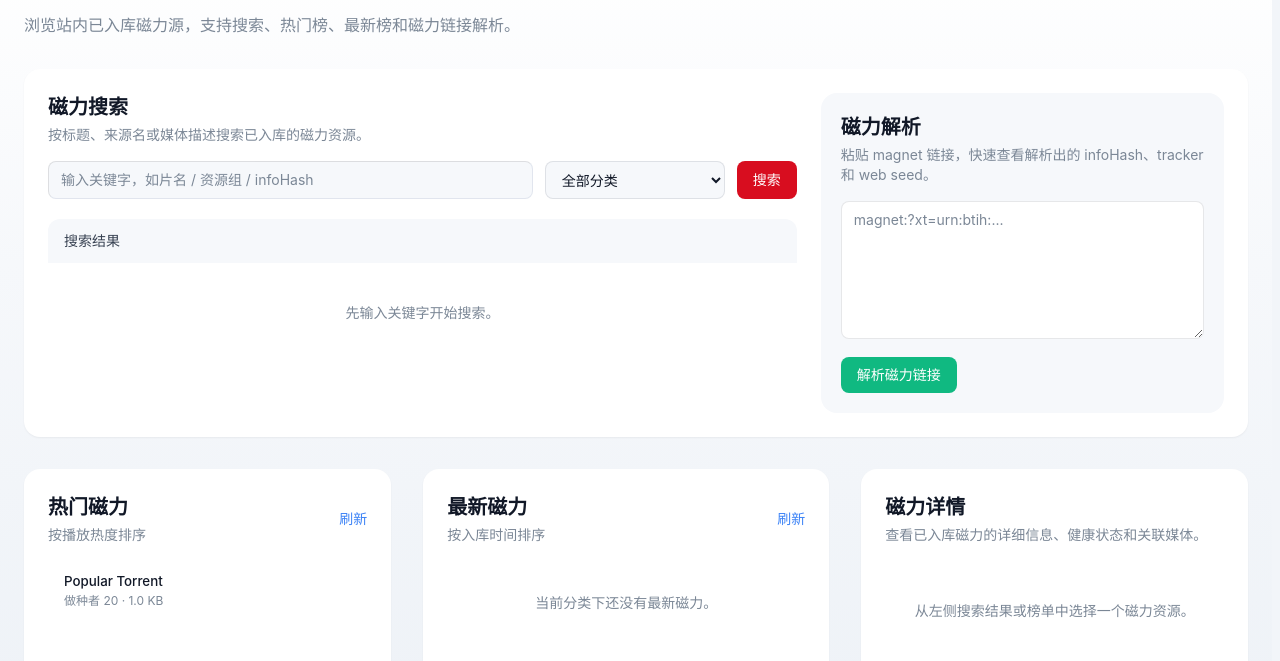
Test: TorrentView › passes the selected hash into download-task deep links
The width and height of the screenshot is (1280, 661).
In the field with placeholder "输入关键字，如片名 / 资源组 / infoHash": (290, 180) [48,161,533,199], type "Demo"
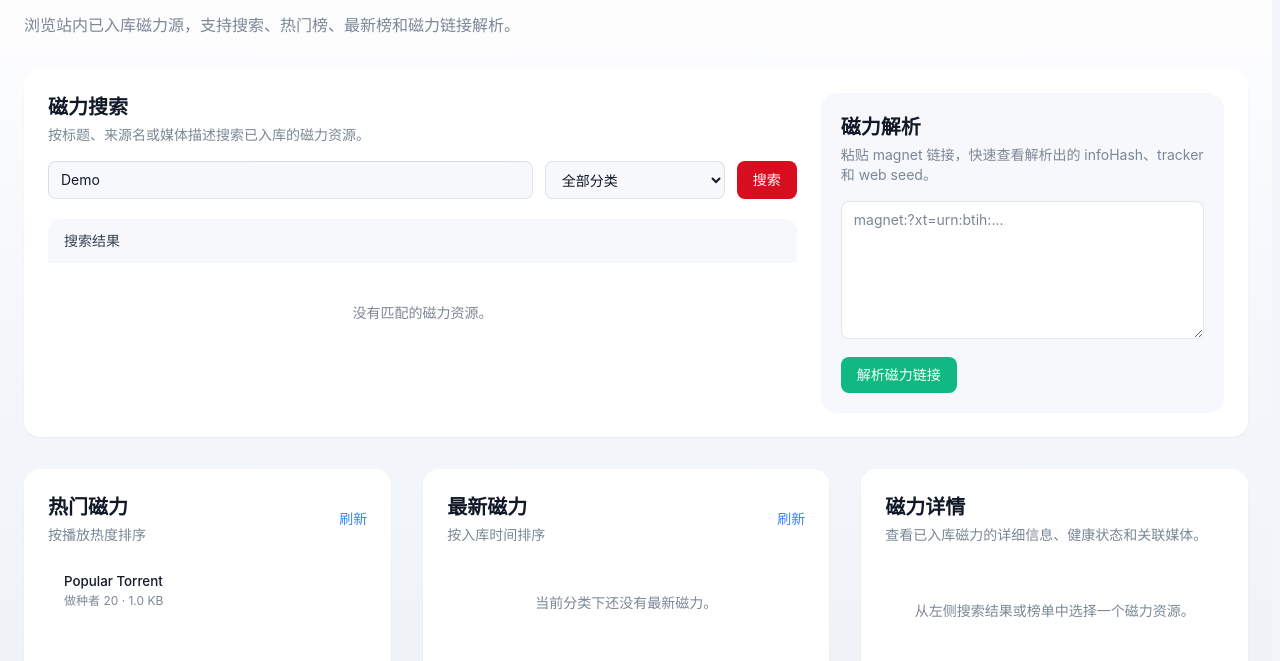
Submit the form "搜索", box [48,161,797,199]
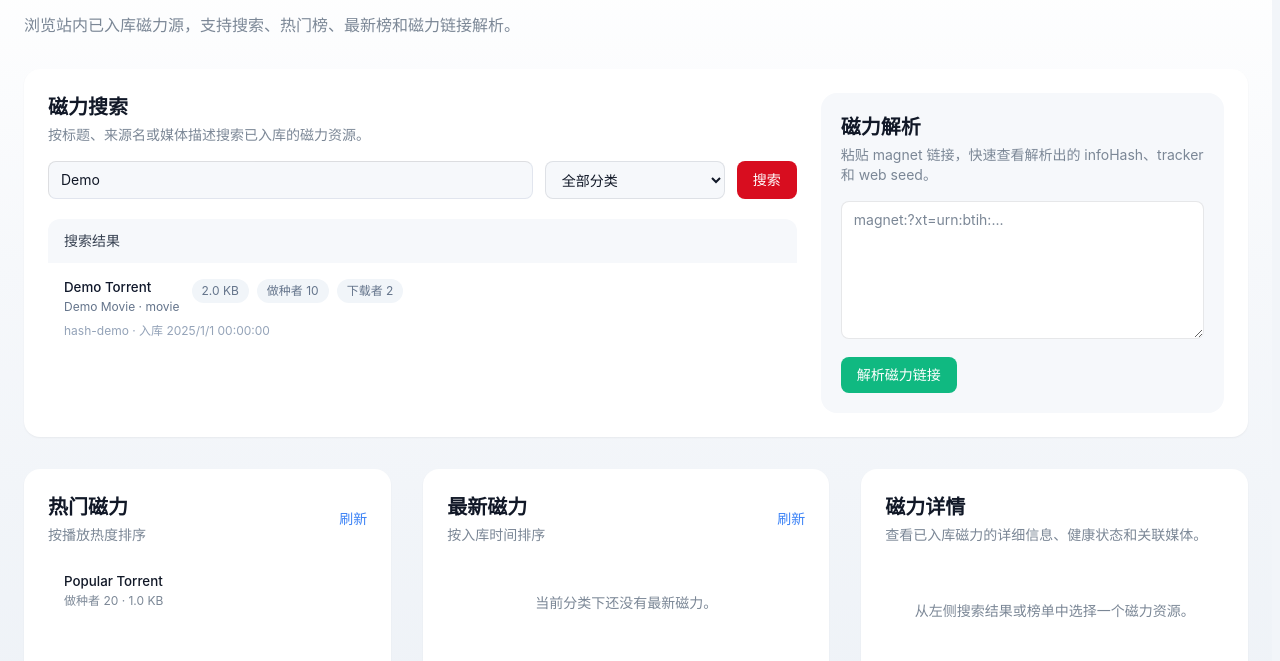
Result: the button that starts with "Demo Torrent" is shown
Click the button that starts with "Demo Torrent": (108, 287) [48,263,797,355]
(page scrolled)
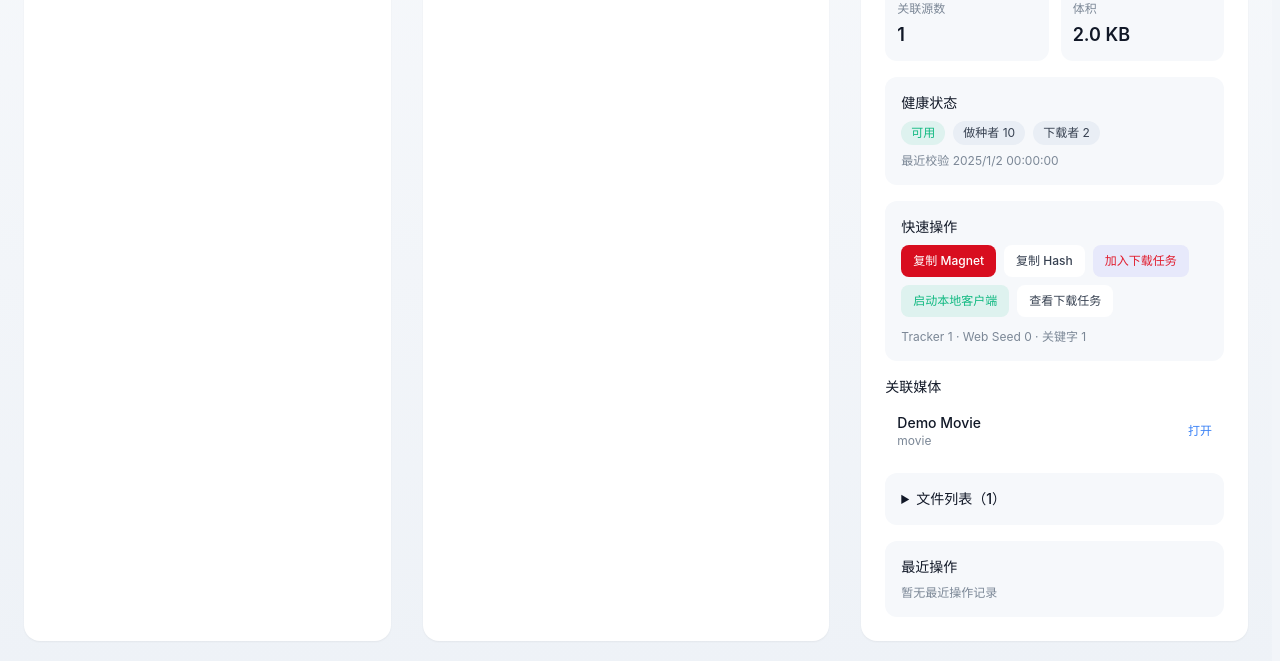
Result: the link with class "router-link-stub" showing "查看下载任务" is shown at [1017,285,1113,317]
